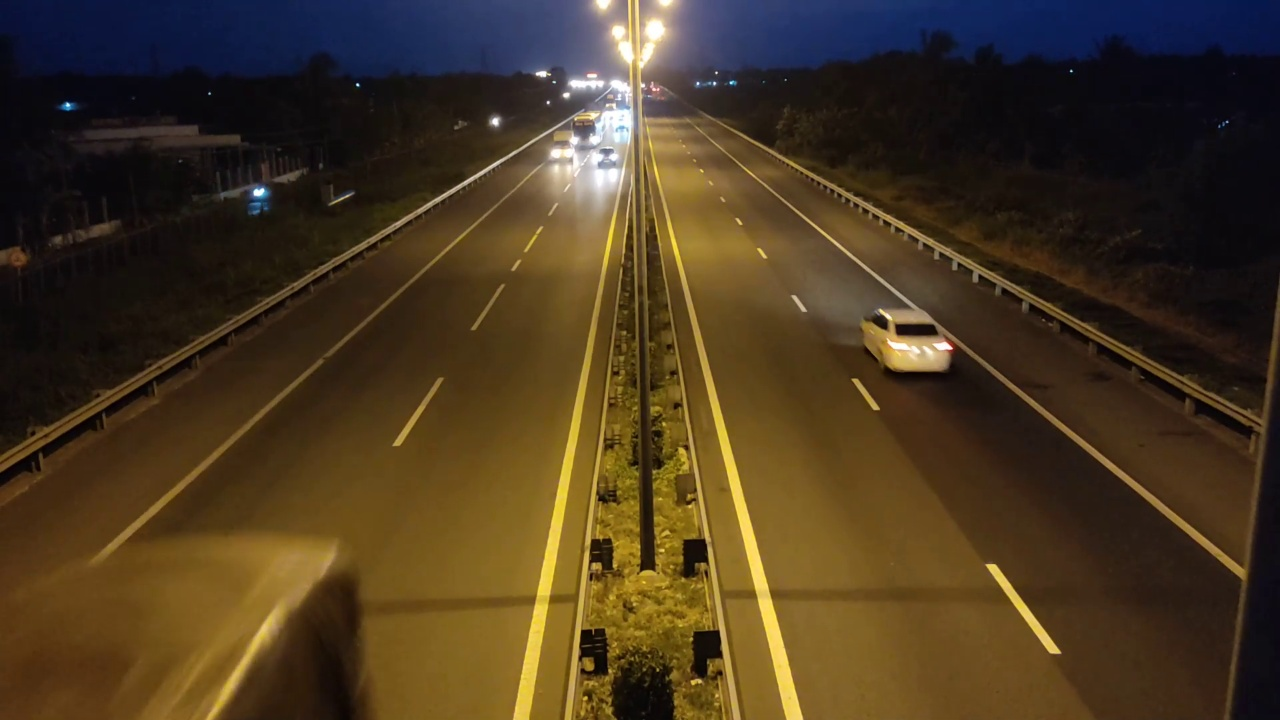car: (860, 305, 954, 373)
